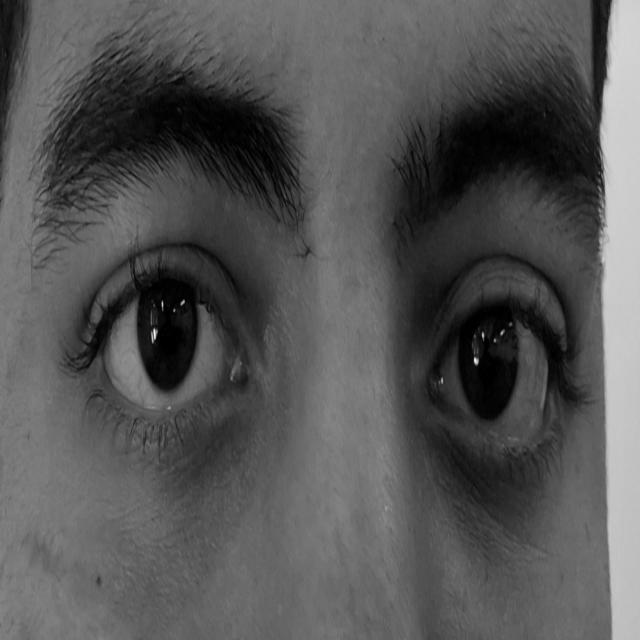real: (30, 42, 602, 590)
